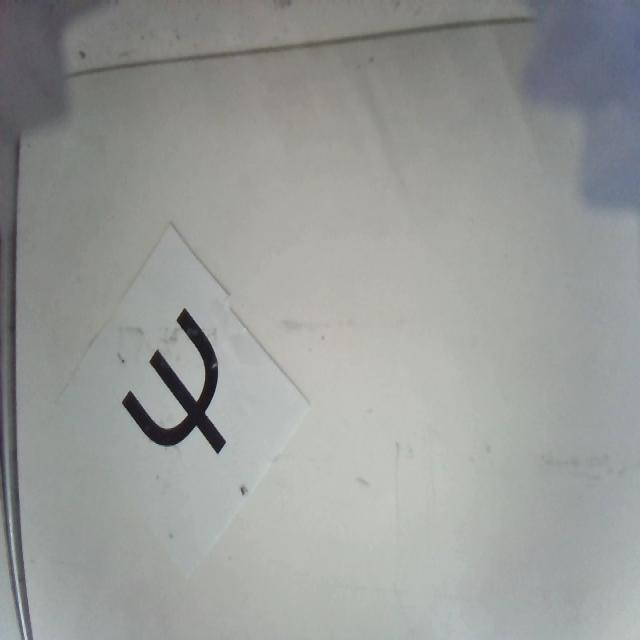nedoF: (122, 308, 228, 457)
